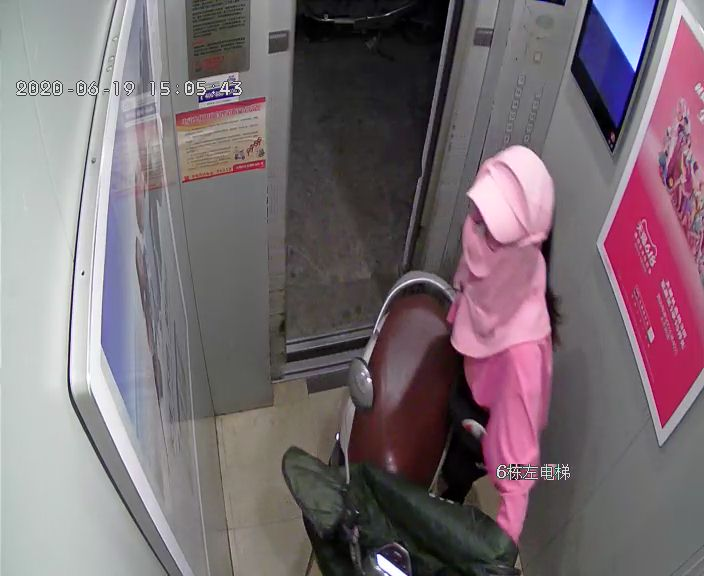Electric-bicycle: (294, 273, 513, 575)
